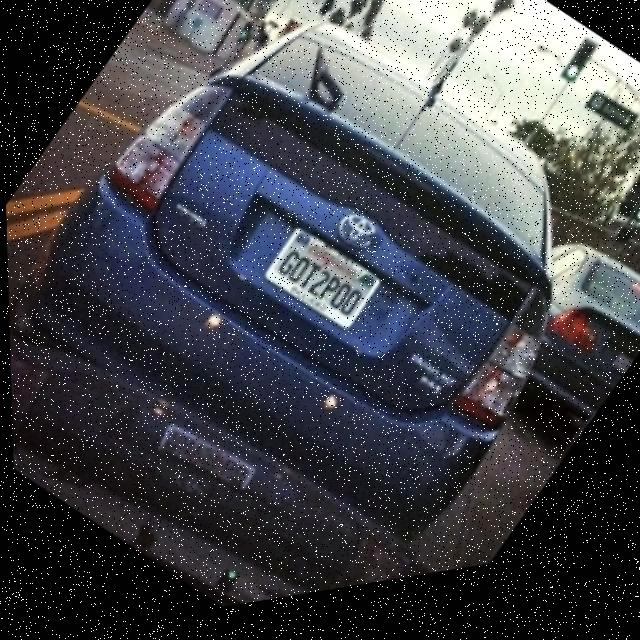license_plate: (258, 223, 382, 353)
